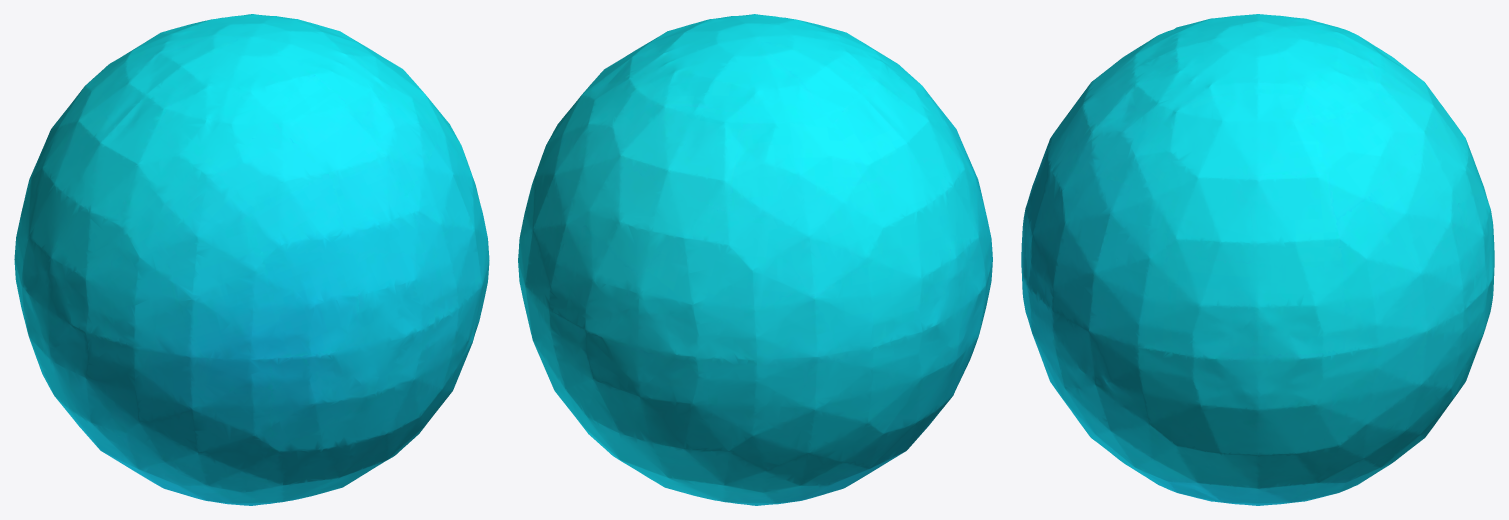
File: Meshy_AI_A_bright_electric_blu_0824213227_texture-optimized.glb
3 views of the same model, side by side, from view 1: azimuth 30°, elevation 25°; view 2: azimuth 150°, elevation 25°; view 3: azimuth 270°, elevation 25° (orthographic).
Visible parts, largest first — view 1: mesh_node; view 2: mesh_node; view 3: mesh_node.
Boxes of the visible parts, x1,y1,x2,y2 form: mesh_node: (14,14,489,505); mesh_node: (518,14,992,505); mesh_node: (1021,14,1494,505).
Bounding box in the file's own units: 1.82 × 1.9 × 1.82.
Materials: 1 (1 with a texture image).
